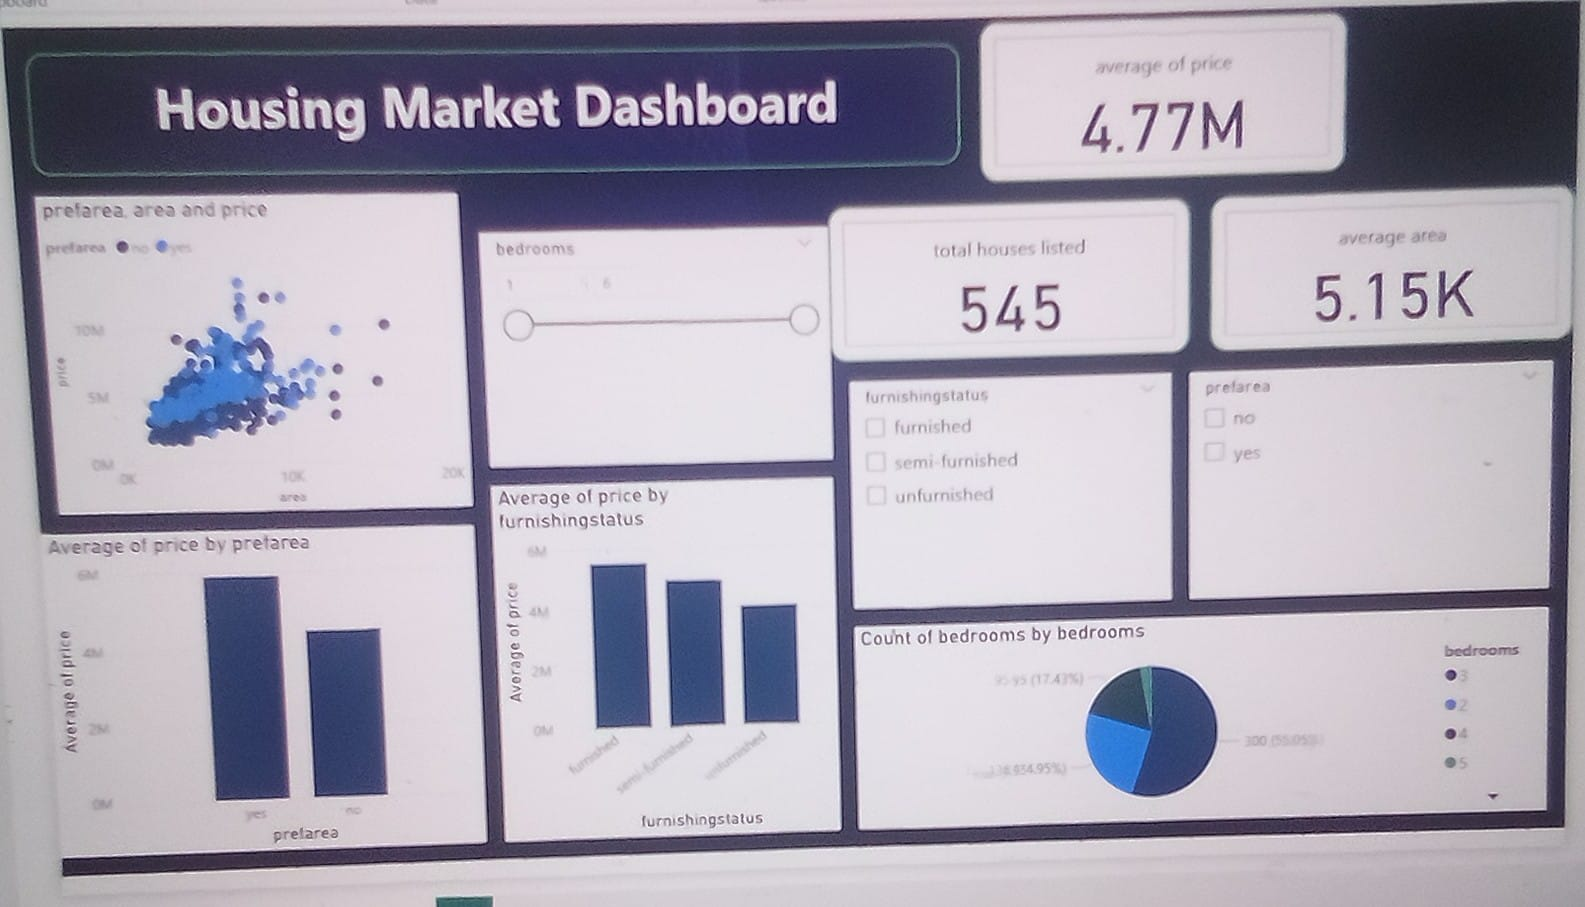

Layout of this report page (visuals, bound fields, positions):
{"tool":"powerbi","page":{"name":"Page 1","canvas":[1280,720],"ordinal":0},"visuals":[{"type":"cardVisual","fields":{"Data":["Housing.Measure"]},"box":[784,16,304,128],"z":0},{"type":"cardVisual","fields":{"Data":["Housing.Measure 2"]},"box":[656,160,304,128],"z":1000},{"type":"cardVisual","fields":{"Data":["Housing.Measure 3"]},"box":[976,160,304,128],"z":2000},{"type":"columnChart","fields":{"Y":["Avg(Housing.price)"],"Category":["Housing.prefarea"]},"box":[0,416,352,272],"z":3000},{"type":"clusteredColumnChart","fields":{"Category":["Housing.furnishingstatus"],"Y":["Avg(Housing.price)"]},"box":[368,384,288,304],"z":4000},{"type":"pieChart","fields":{"Category":["Housing.bedrooms"],"Y":["CountNonNull(Housing.bedrooms)"]},"box":[672,512,592,176],"z":5000},{"type":"scatterChart","fields":{"X":["Housing.area"],"Y":["Housing.price"],"Series":["Housing.prefarea"]},"box":[16,144,336,256],"z":6000},{"type":"slicer","fields":{"Values":["Housing.bedrooms"]},"box":[368,176,288,192],"z":7000},{"type":"slicer","fields":{"Values":["Housing.furnishingstatus"]},"box":[672,304,272,192],"z":8000},{"type":"slicer","fields":{"Values":["Housing.prefarea"]},"box":[960,304,304,192],"z":9000},{"type":"textbox","box":[16,32,752,96],"z":10000}]}

Visuals, with their boxes in screenshot pixels (x1, y1, x2, y2):
cardVisual - Housing.Measure: l=986, t=11, r=1358, b=168
cardVisual - Housing.Measure 2: l=830, t=187, r=1201, b=343
cardVisual - Housing.Measure 3: l=1221, t=187, r=1584, b=343
columnChart - Avg(Housing.price) x Housing.prefarea: l=29, t=500, r=459, b=832
clusteredColumnChart - Housing.furnishingstatus x Avg(Housing.price): l=478, t=461, r=830, b=832
pieChart - Housing.bedrooms x CountNonNull(Housing.bedrooms): l=850, t=617, r=1572, b=832
scatterChart - Housing.area x Housing.price: l=48, t=168, r=459, b=480
slicer - Housing.bedrooms: l=478, t=207, r=830, b=441
slicer - Housing.furnishingstatus: l=850, t=363, r=1182, b=597
slicer - Housing.prefarea: l=1201, t=363, r=1572, b=597
textbox: l=48, t=31, r=967, b=148
